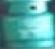cylinder: (1, 0, 55, 49)
